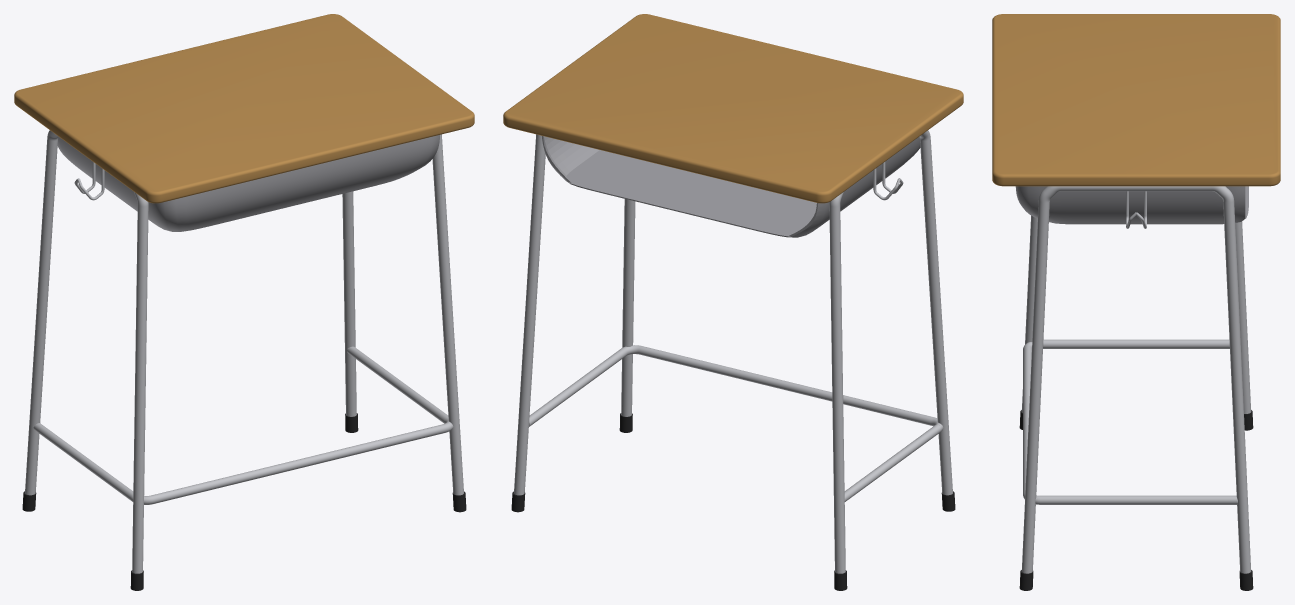
File: school_desk__57f955646049.glb
3 renders of one model, left to right at view 1: azimuth 30°, elevation 25°; view 2: azimuth 150°, elevation 25°; view 3: azimuth 270°, elevation 25°, orthographic.
Visible parts, largest first — view 1: top, tray, frame.001, frame, cross_rail, side_rail, side_rail.001; view 2: top, tray, frame.001, frame, cross_rail, side_rail, side_rail.001; view 3: top, frame, tray, frame.001, side_rail, side_rail.001, cross_rail.
Part boxes in pixels (x1,y1,x2,y2): top: [14, 14, 474, 203]; tray: [57, 135, 439, 231]; frame.001: [25, 130, 148, 573]; frame: [342, 134, 463, 495]; cross_rail: [131, 417, 453, 504]; side_rail: [347, 346, 448, 423]; side_rail.001: [33, 423, 133, 500]; top: [503, 14, 963, 203]; tray: [542, 136, 920, 237]; frame.001: [829, 130, 952, 573]; frame: [514, 134, 635, 495]; cross_rail: [622, 345, 943, 430]; side_rail: [529, 348, 627, 426]; side_rail.001: [844, 425, 941, 501]; top: [992, 14, 1280, 186]; frame: [1021, 186, 1251, 573]; tray: [1015, 186, 1248, 224]; frame.001: [1021, 215, 1251, 413]; side_rail: [1040, 495, 1237, 504]; side_rail.001: [1043, 339, 1229, 348]; cross_rail: [1023, 342, 1040, 504].
Bounding box in the file's own units: 0.6025 × 0.7 × 0.4425.
